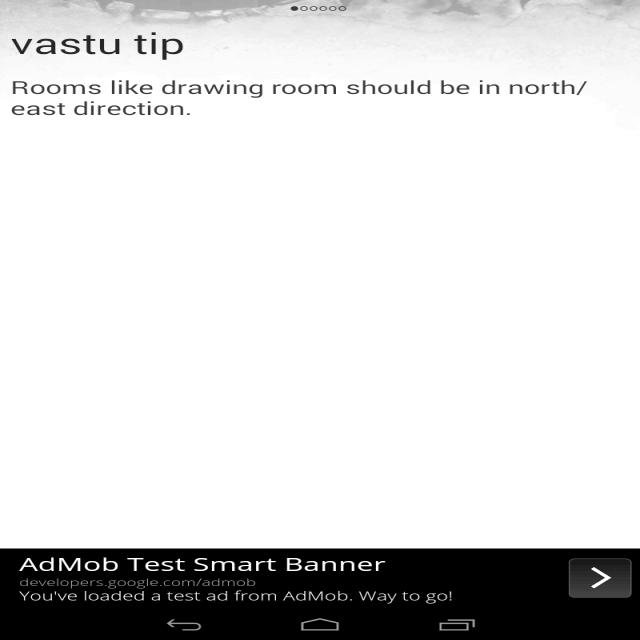Button: (564, 555, 637, 600)
TextView: (2, 74, 600, 122), (16, 581, 462, 607), (18, 552, 462, 576), (8, 26, 189, 64)
